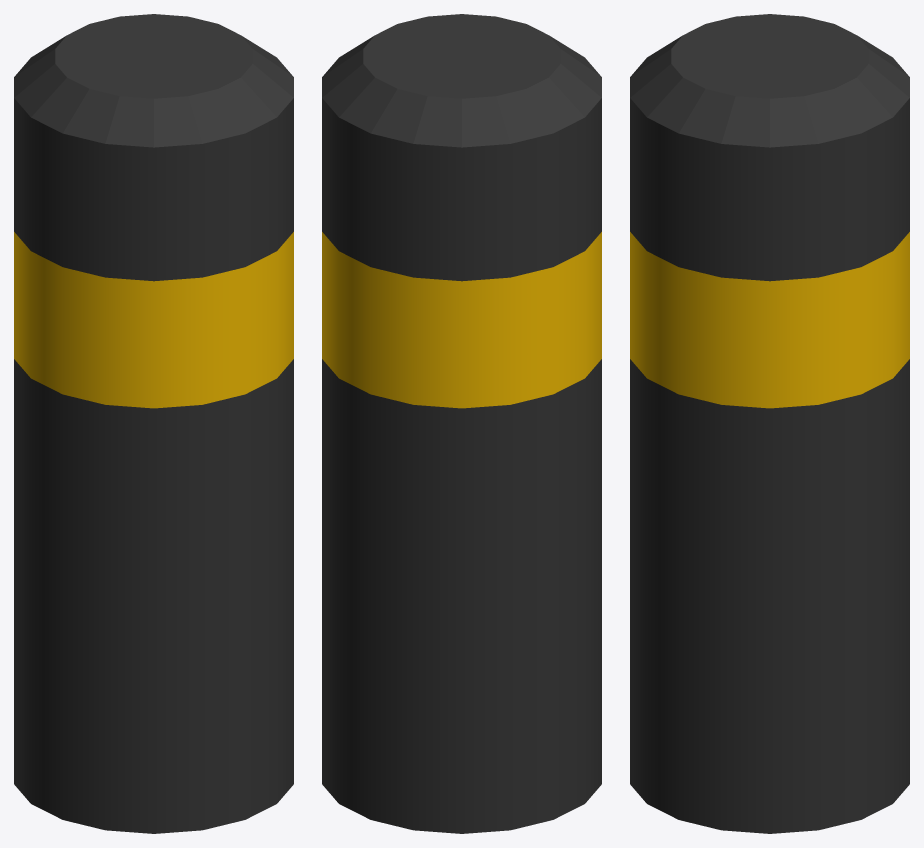
The model's file is Barricade_Pillar.FBX.
3 views of the same model, side by side, from view 1: azimuth 30°, elevation 25°; view 2: azimuth 150°, elevation 25°; view 3: azimuth 270°, elevation 25° (orthographic).
Parts seen in each view (by area): view 1: Barricade_Pillar; view 2: Barricade_Pillar; view 3: Barricade_Pillar.
Boxes of the visible parts, bbox=[...] form: Barricade_Pillar: bbox=[14, 14, 293, 833]; Barricade_Pillar: bbox=[322, 14, 601, 833]; Barricade_Pillar: bbox=[630, 14, 909, 833].
Bounding box in the file's own units: 30 × 83.63 × 29.54.
